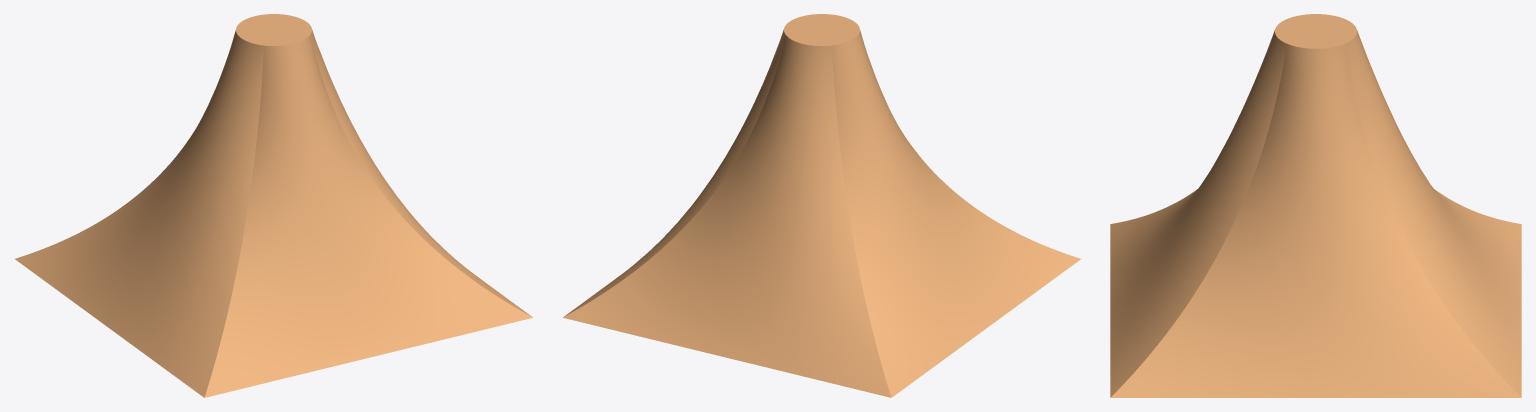
Rendered from serial_test_example_fn_std-sketch-loft1_output.glb.
The picture shows the model from 3 angles, left to right: view 1: azimuth 30°, elevation 25°; view 2: azimuth 150°, elevation 25°; view 3: azimuth 270°, elevation 25°; orthographic projection. The views are drawn at different scales.
Size of the model in its own units: 0.2 by 0.15 by 0.2.
